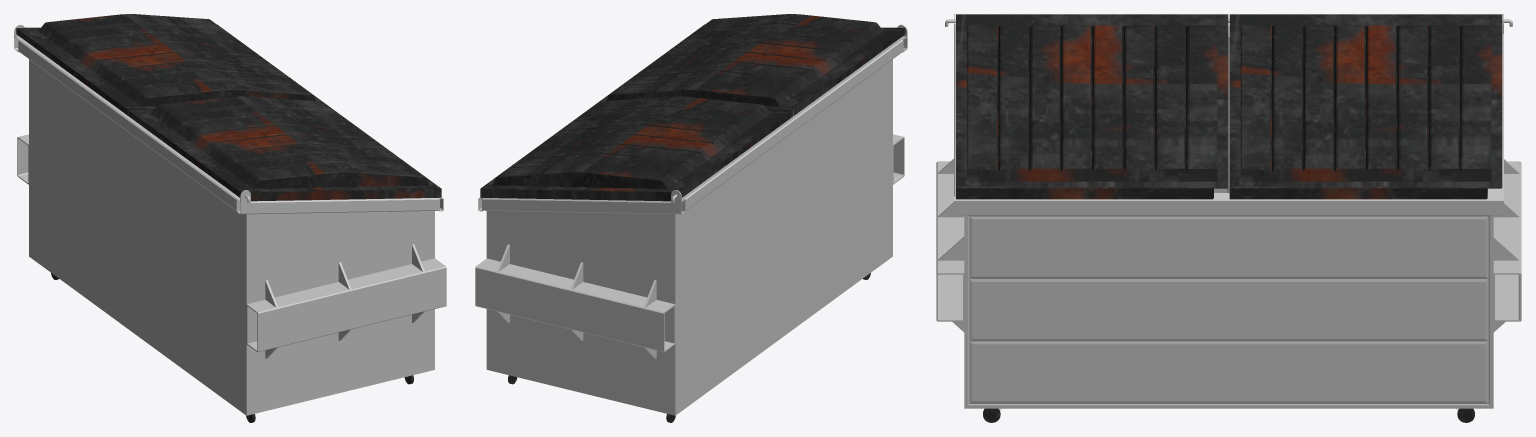
Rendered from contenedor.obj.
3 views of the same model, side by side, from view 1: azimuth 30°, elevation 25°; view 2: azimuth 150°, elevation 25°; view 3: azimuth 270°, elevation 25° (orthographic). The views are drawn at different scales.
Visible parts, largest first — view 1: Dumpster, Cover_001, Cover; view 2: Dumpster, Cover, Cover_001; view 3: Dumpster, Cover, Cover_001.
Part boxes in pixels (x1,y1,x2,y2): Dumpster: [14, 25, 446, 415]; Cover_001: [129, 96, 441, 201]; Cover: [16, 14, 328, 116]; Dumpster: [475, 24, 907, 415]; Cover: [480, 96, 792, 201]; Cover_001: [594, 14, 905, 115]; Dumpster: [936, 14, 1521, 408]; Cover: [1229, 14, 1502, 199]; Cover_001: [956, 14, 1228, 199].
Bounding box in the file's own units: 4.31 × 5.07 × 8.86.
